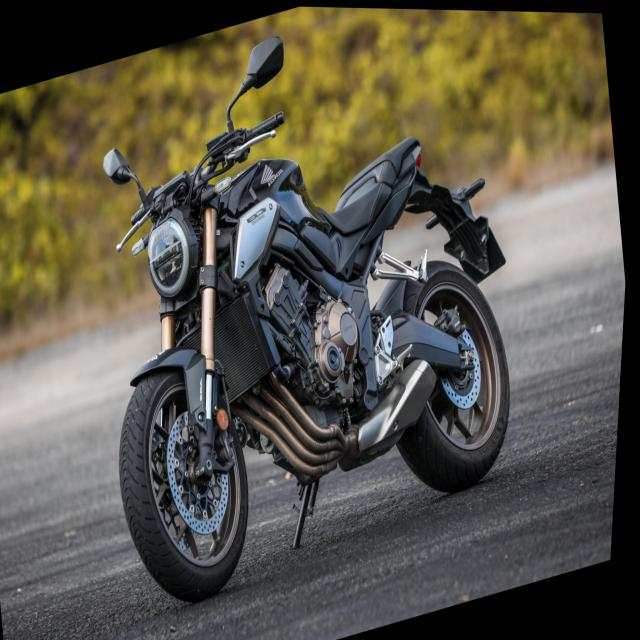CB650R: (62, 2, 554, 627)
